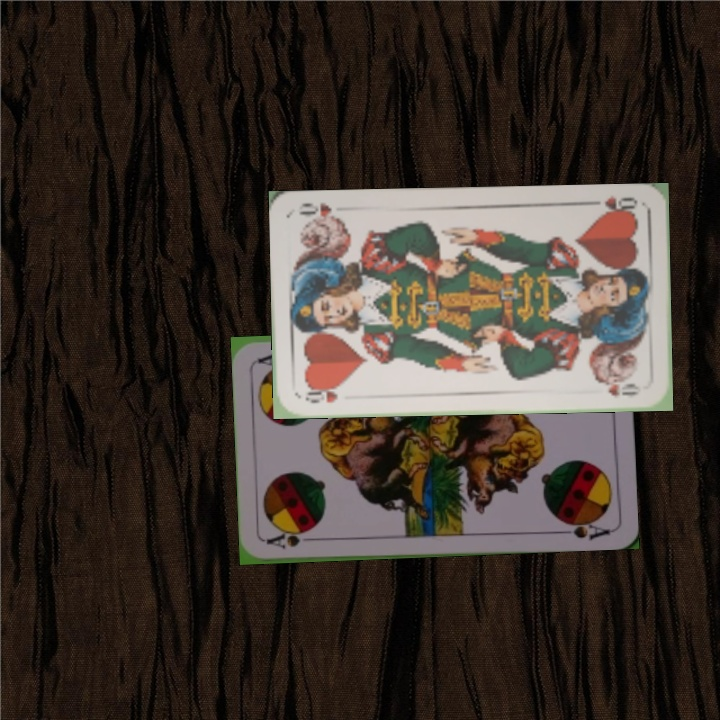HO: (583, 191, 640, 218), (300, 382, 345, 406)
SA: (263, 527, 322, 552)
